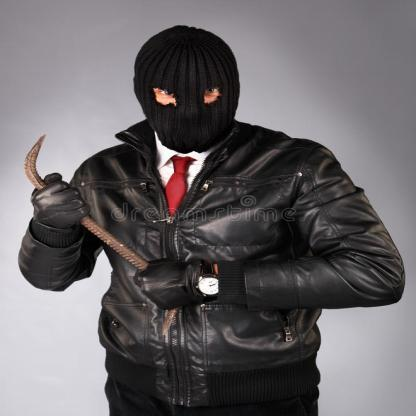criminal: (17, 26, 406, 416)
